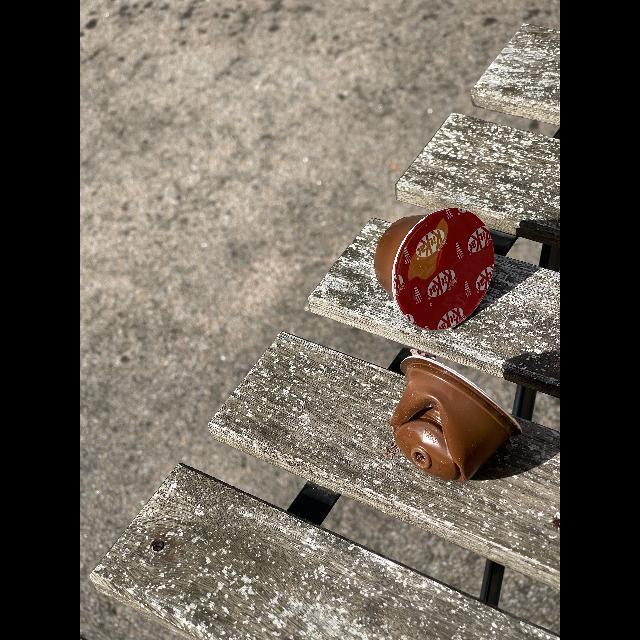damaged_capsule: (372, 352, 536, 492)
intact_capsule: (371, 202, 503, 340)
